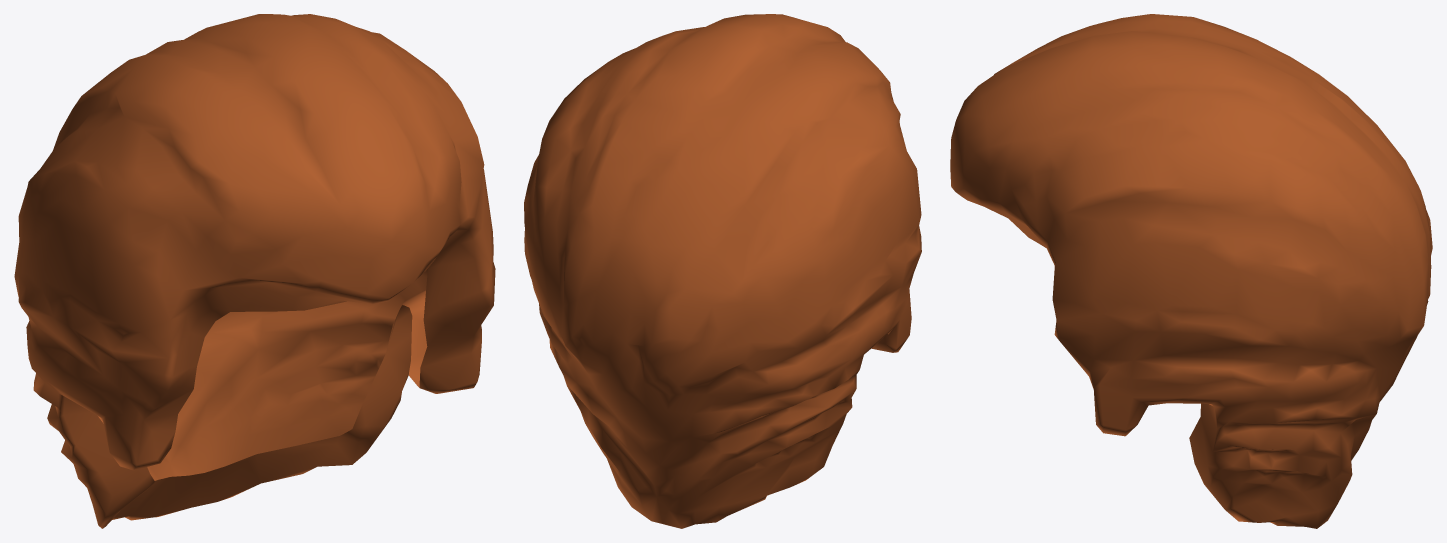
3 renders of one model, left to right at view 1: azimuth 30°, elevation 25°; view 2: azimuth 150°, elevation 25°; view 3: azimuth 270°, elevation 25°, orthographic. The views are drawn at different scales.
Visible parts, largest first — view 1: Wolf3D_Hair.115; view 2: Wolf3D_Hair.115; view 3: Wolf3D_Hair.115.
Part boxes in pixels (left/top/right/bottom): Wolf3D_Hair.115: left=14, top=14, right=495, bottom=528; Wolf3D_Hair.115: left=524, top=14, right=921, bottom=528; Wolf3D_Hair.115: left=950, top=14, right=1432, bottom=528.
Size of the model in its own units: 0.181 by 0.2234 by 0.2043.
Materials: 1 (1 with a texture image).
